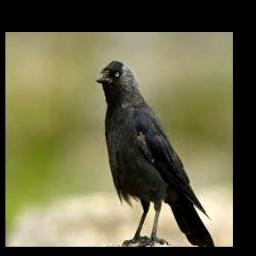Crow: (97, 60, 216, 246)
